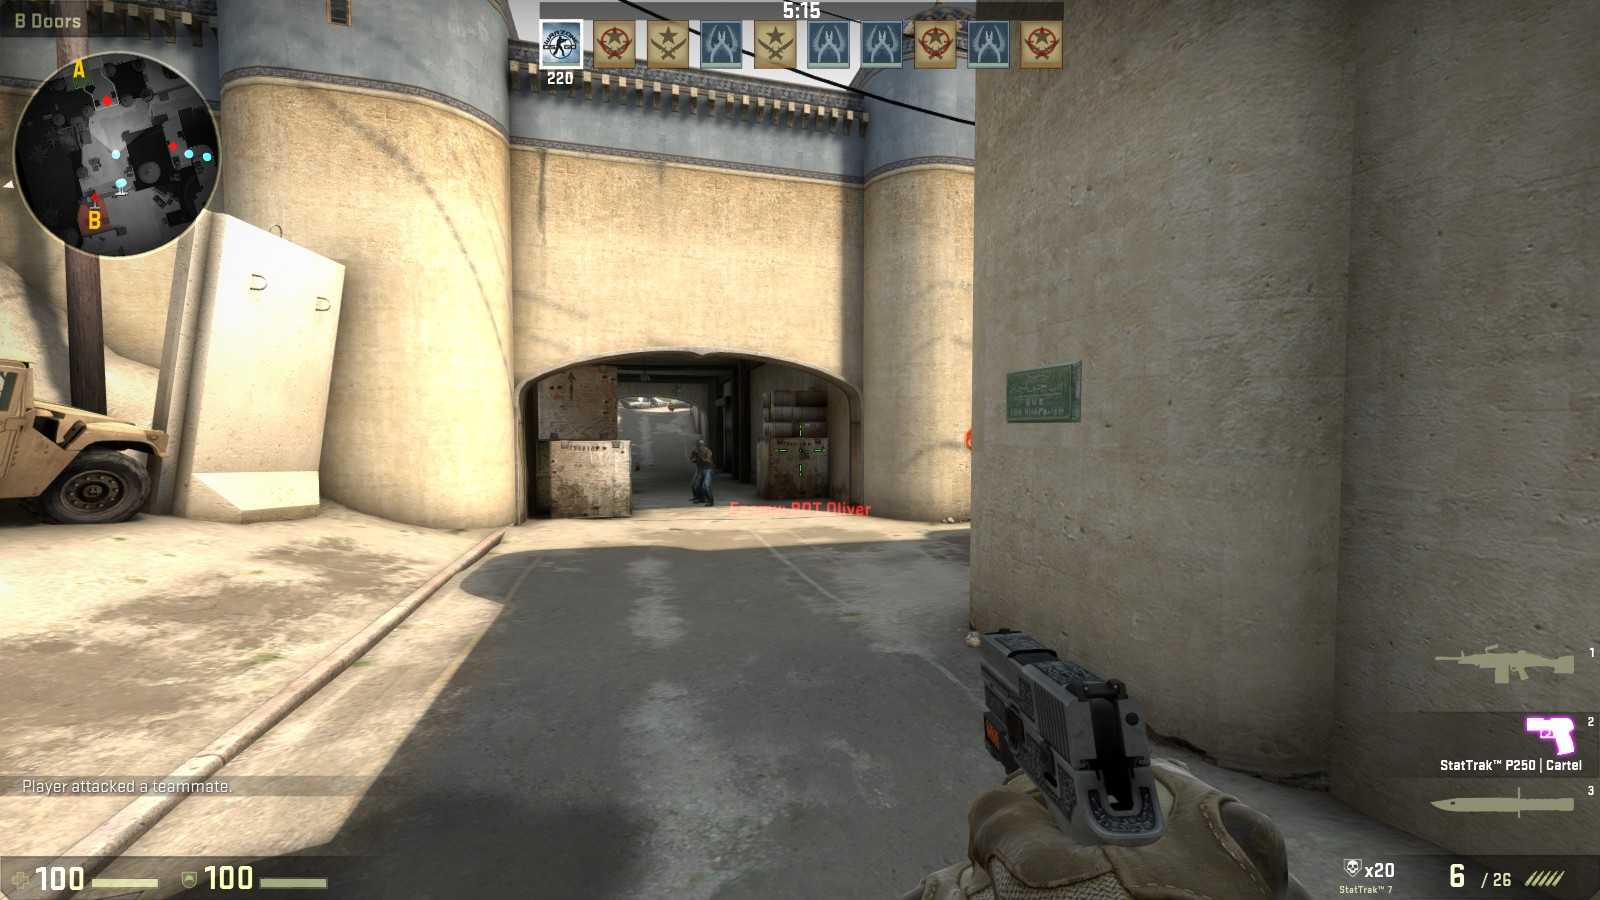t: (689, 438, 720, 507)
th: (695, 440, 709, 449)
